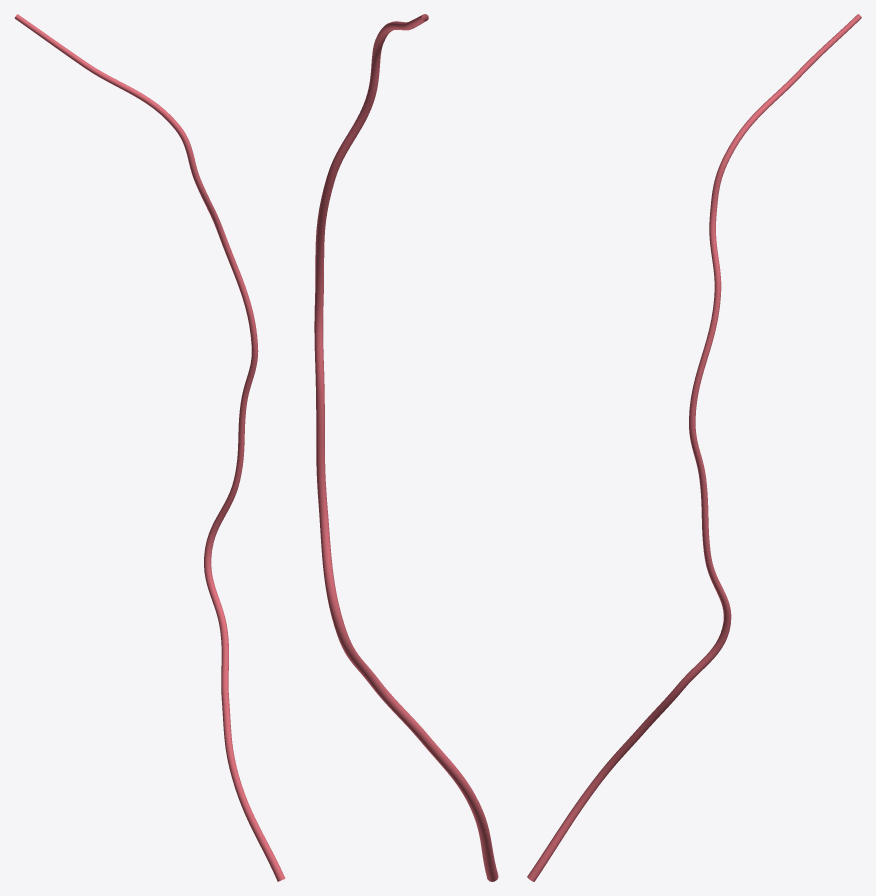
3 views of the same model, side by side, from view 1: azimuth 30°, elevation 25°; view 2: azimuth 150°, elevation 25°; view 3: azimuth 270°, elevation 25° (orthographic). The views are drawn at different scales.
Visible parts, largest first — view 1: ZA_009cdefda3da7576; view 2: ZA_009cdefda3da7576; view 3: ZA_009cdefda3da7576.
Part boxes in pixels (left/top/right/bottom): ZA_009cdefda3da7576: left=14, top=14, right=285, bottom=881; ZA_009cdefda3da7576: left=314, top=14, right=498, bottom=881; ZA_009cdefda3da7576: left=527, top=14, right=861, bottom=881.
Bounding box in the file's own units: 0.0347 × 0.1582 × 0.0591.
